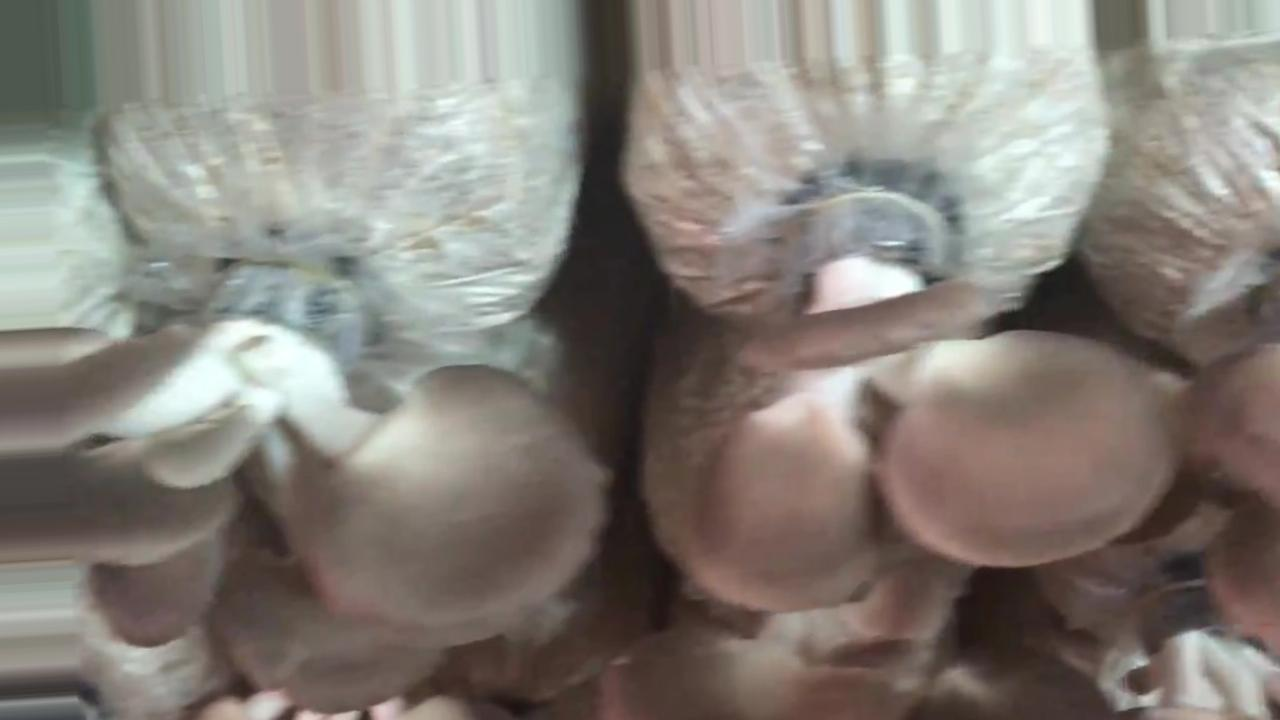nam: (1, 250, 610, 712), (691, 192, 1178, 610)
